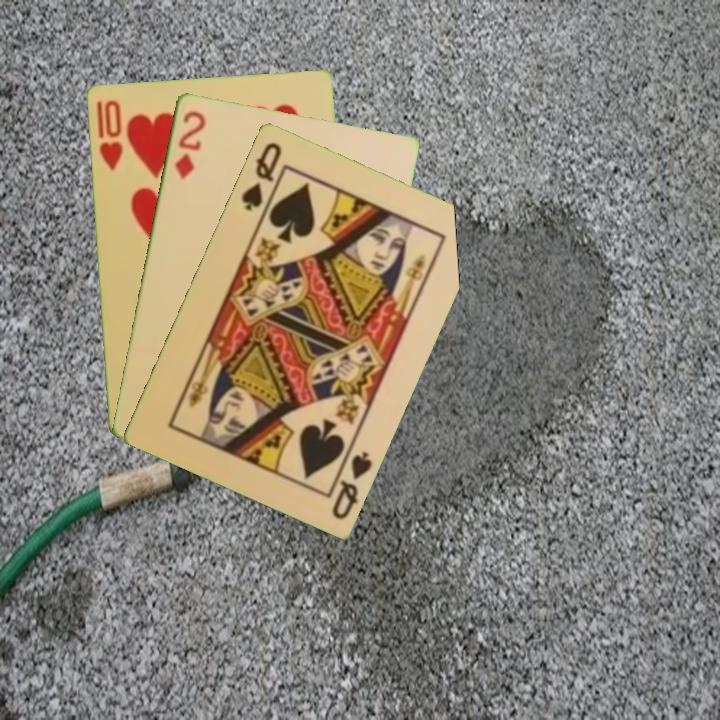10h: (95, 95, 125, 174)
2d: (171, 106, 208, 182)
Qs: (237, 138, 285, 214), (328, 447, 375, 522)
